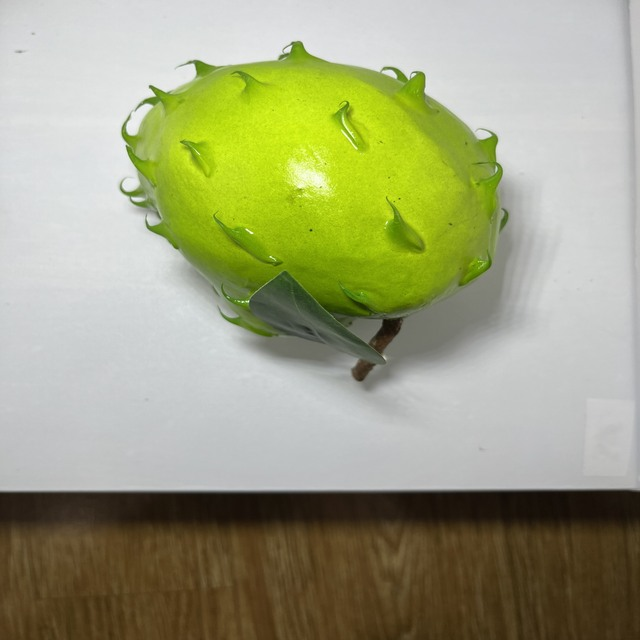Man cau: (117, 31, 517, 326)
